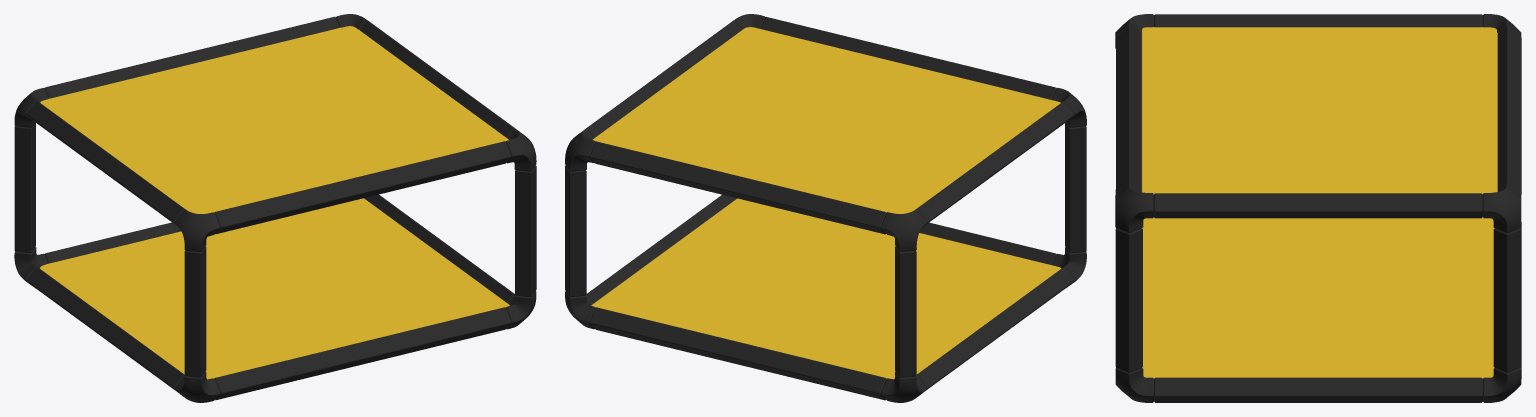
The picture shows the model from 3 angles, left to right: view 1: azimuth 30°, elevation 25°; view 2: azimuth 150°, elevation 25°; view 3: azimuth 270°, elevation 25°; orthographic projection. The views are drawn at different scales.
Visible parts, largest first — view 1: 374x329x154; view 2: 374x329x154; view 3: 374x329x154.
Part boxes in pixels (<box>): 374x329x154: <box>14,14,536,402</box>; 374x329x154: <box>565,14,1086,402</box>; 374x329x154: <box>1115,14,1521,402</box>.
Size of the model in its own units: 0.4517 by 0.2317 by 0.4063.
